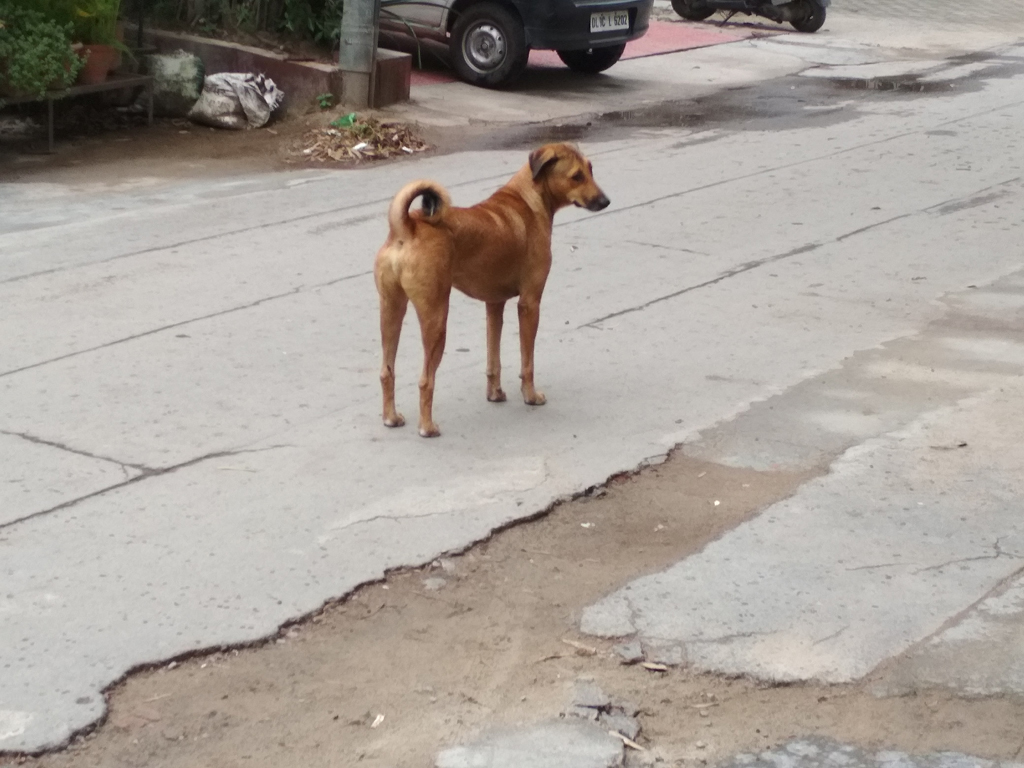dog: (372, 142, 612, 438)
